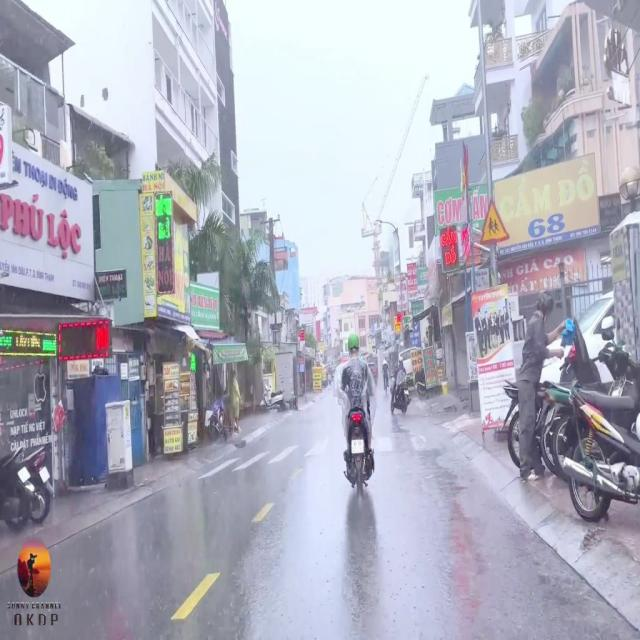chu_y_tre_em: (478, 198, 510, 246)
